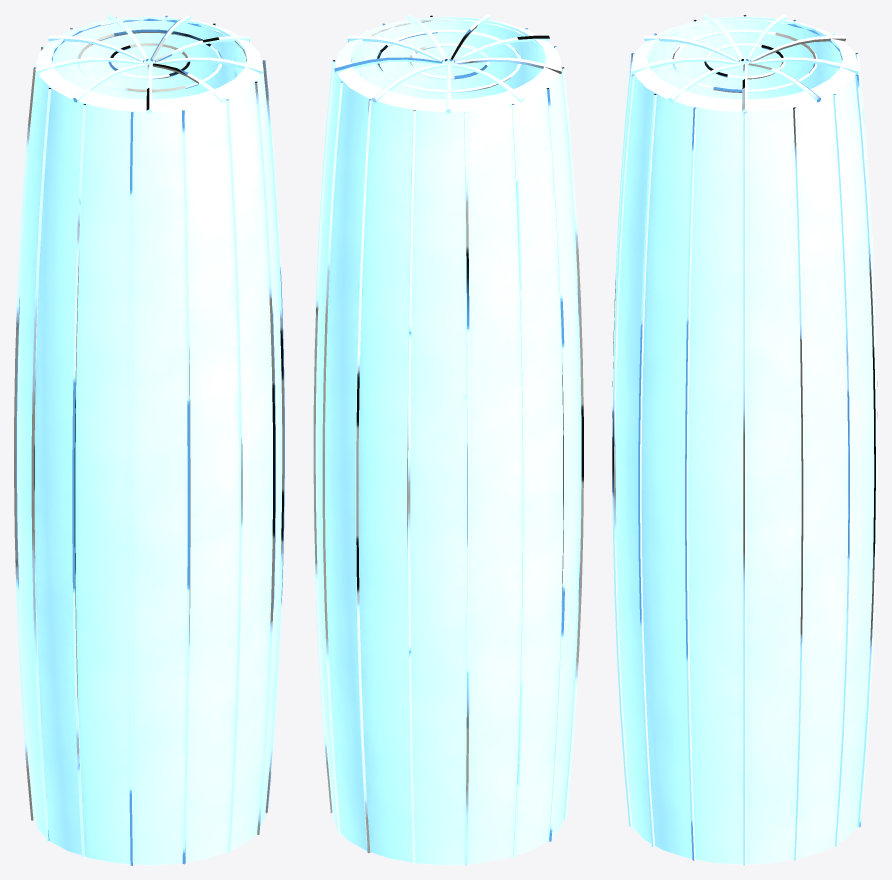
Rendered from euplectella_aspergillum.glb.
The picture shows the model from 3 angles, left to right: view 1: azimuth 30°, elevation 25°; view 2: azimuth 150°, elevation 25°; view 3: azimuth 270°, elevation 25°; orthographic projection.
Parts seen in each view (by area): view 1: euplectella_aspergillum; view 2: euplectella_aspergillum; view 3: euplectella_aspergillum.
Part boxes in pixels (box(x1,y1,x2,y2)): euplectella_aspergillum: box(14, 14, 284, 865); euplectella_aspergillum: box(313, 14, 583, 865); euplectella_aspergillum: box(612, 14, 877, 865).
Bounding box in the file's own units: 0.2821 × 0.8808 × 0.2754.
Materials: 1 (1 with a texture image).
